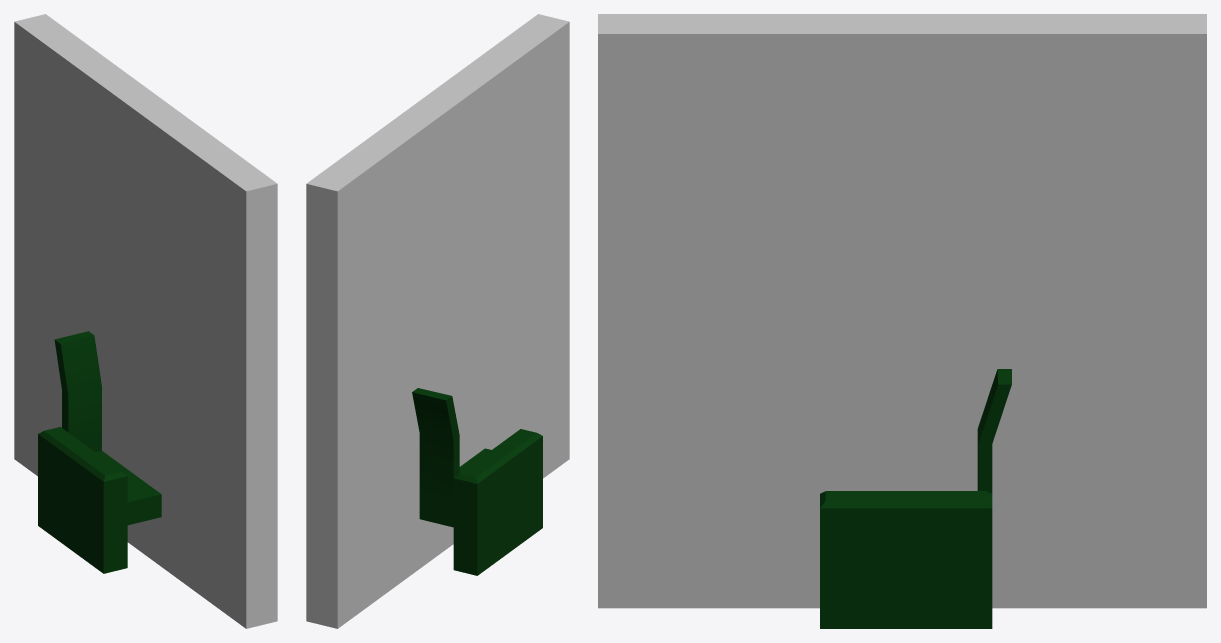
File: Pared.fbx
The picture shows the model from 3 angles, left to right: view 1: azimuth 30°, elevation 25°; view 2: azimuth 150°, elevation 25°; view 3: azimuth 270°, elevation 25°; orthographic projection. The views are drawn at different scales.
Parts seen in each view (by area): view 1: Mesh (3), Mesh; view 2: Mesh (3), Mesh; view 3: Mesh (3), Mesh.
Boxes of the visible parts, box(x1,y1,x2,y2) form: Mesh (3): box(14, 14, 277, 628); Mesh: box(38, 331, 161, 573); Mesh (3): box(306, 14, 569, 628); Mesh: box(412, 388, 542, 575); Mesh (3): box(598, 14, 1206, 608); Mesh: box(820, 369, 1011, 628).
Size of the model in its own units: 226 by 692 by 665.
